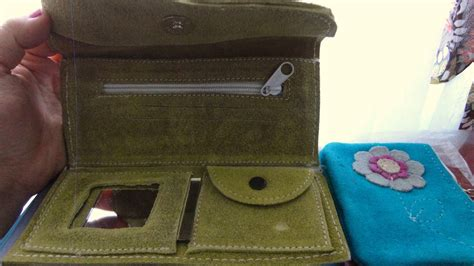gamuza: (8, 1, 474, 266)
